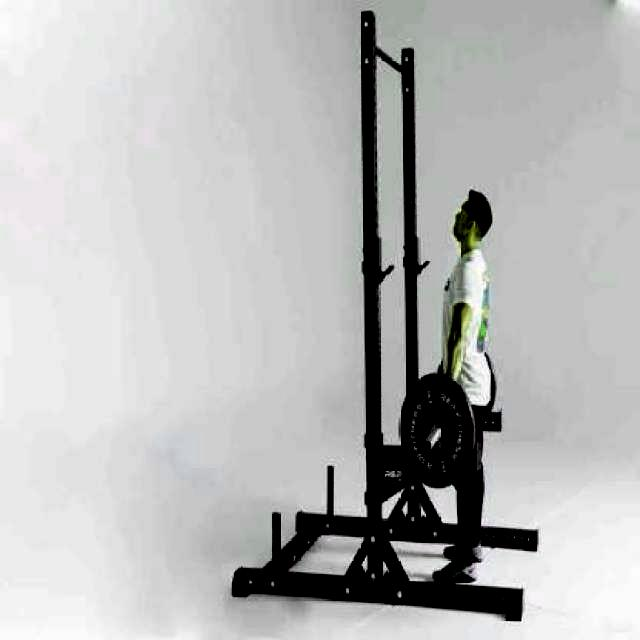barbell: (397, 370, 482, 490)
